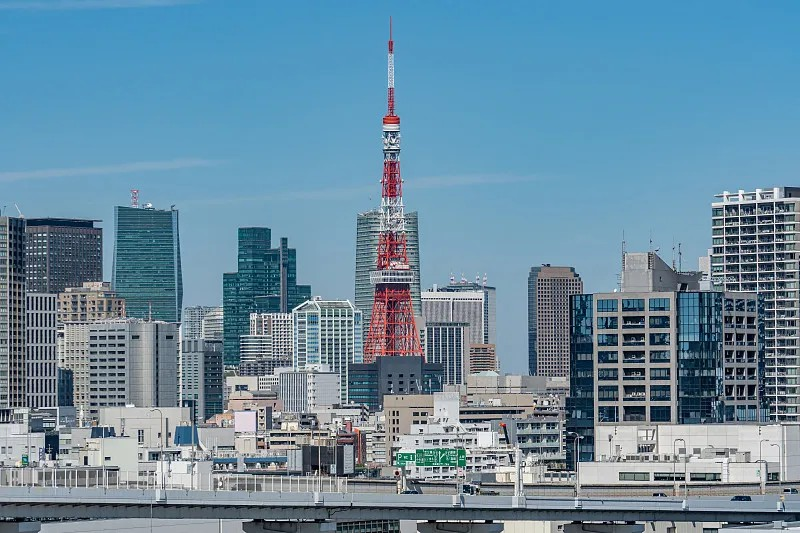Tokyo: (364, 16, 428, 361)
